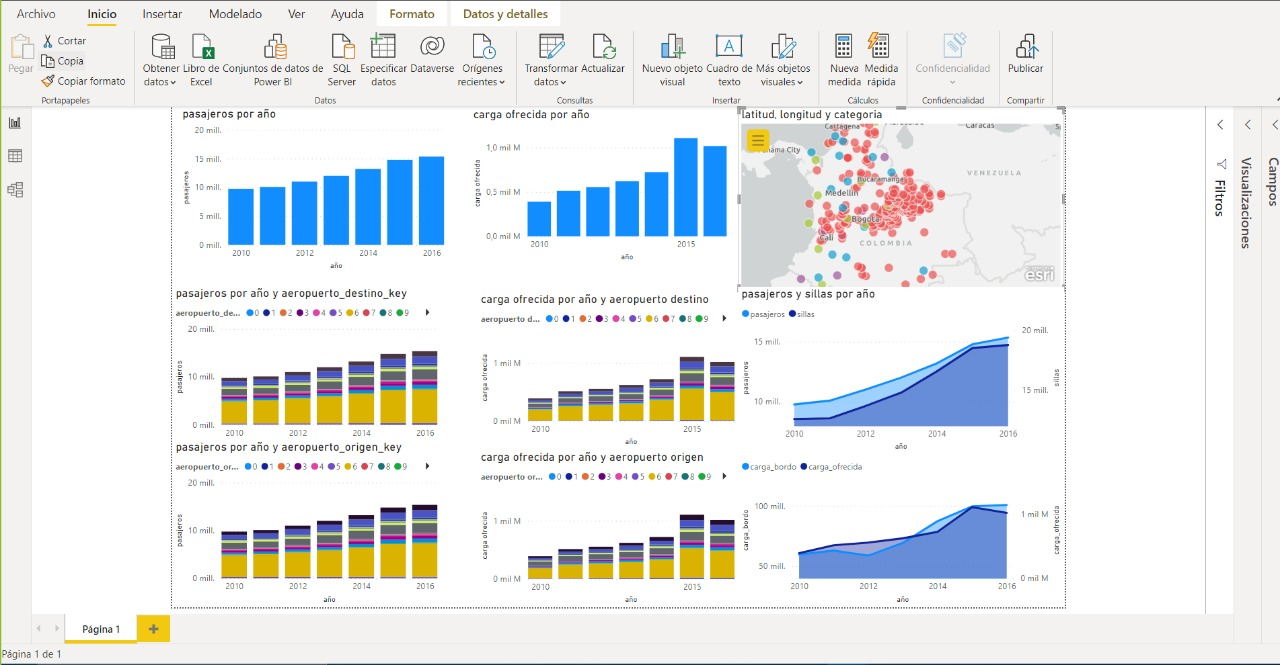

The page's visual inventory and layout, read from the dashboard file:
{"tool":"powerbi","page":{"name":"Vuelos","canvas":[1280,720],"ordinal":0},"visuals":[{"type":"columnChart","title":"Pasajeros anuales","fields":{"Category":["fecha.year"],"Y":["Sum(fact_vuelo.pasajeros)"]},"box":[9.6,0,336.5,239],"z":0},{"type":"columnChart","title":"Carga anual transportada","fields":{"Category":["fecha.year"],"Y":["Sum(fact_vuelo.carga_bordo)"]},"box":[377.7,0,336.5,239],"z":1000},{"type":"columnChart","title":"Pasajeros anuales por destino","fields":{"Category":["fecha.year"],"Y":["Sum(fact_vuelo.pasajeros)"],"Series":["fact_vuelo.aeropuerto_destino_key"]},"box":[1.4,239,336.5,232.1],"z":2000},{"type":"columnChart","title":"Carga anual transportada por destino","fields":{"Category":["fecha.year"],"Y":["Sum(fact_vuelo.carga_bordo)"],"Series":["fact_vuelo.aeropuerto_destino_key"]},"box":[377.7,239,336.5,232.1],"z":3000},{"type":"columnChart","title":"Pasajeros anuales por origen","fields":{"Category":["fecha.year"],"Y":["Sum(fact_vuelo.pasajeros)"],"Series":["fact_vuelo.aeropuerto_origen_key"]},"box":[1.4,471.1,336.5,248.6],"z":4000},{"type":"columnChart","title":"Carga anual transportada por origen","fields":{"Category":["fecha.year"],"Series":["fact_vuelo.aeropuerto_origen_key"],"Y":["Sum(fact_vuelo.carga_bordo)"]},"box":[377.7,471.1,336.5,248.6],"z":5000},{"type":"esriVisual","title":"Ubicaciones y categorías","fields":{"Latitude":["aeropuerto.latitud"],"Longitude":["aeropuerto.longitud"],"Color":["aeropuerto.categoria"]},"box":[723.8,0,556.2,239],"z":6000},{"type":"areaChart","title":"Pasajeros y sillas anuales","fields":{"Category":["fecha.year"],"Y":["Sum(fact_vuelo.pasajeros)"],"Y2":["Sum(fact_vuelo.sillas)"]},"box":[724,239,556,232],"z":7000},{"type":"areaChart","title":"Carga a bordo y carga ofrecida anual","fields":{"Category":["fecha.year"],"Y":["Sum(fact_vuelo.carga_bordo)"],"Y2":["Sum(fact_vuelo.carga_ofrecida)"]},"box":[714.2,487.6,556.2,232.1],"z":8000}]}

Visuals, with their boxes on the page's 1280x720 design canvas (x1, y1, x2, y2). These are canvas units, not pixel positions in the 1280x665 screenshot, which may show the page scaled, cropped or inside an application window:
"Pasajeros anuales" columnChart: pyautogui.locateOnScreen(10, 0, 346, 239)
"Carga anual transportada" columnChart: pyautogui.locateOnScreen(378, 0, 714, 239)
"Pasajeros anuales por destino" columnChart: pyautogui.locateOnScreen(1, 239, 338, 471)
"Carga anual transportada por destino" columnChart: pyautogui.locateOnScreen(378, 239, 714, 471)
"Pasajeros anuales por origen" columnChart: pyautogui.locateOnScreen(1, 471, 338, 720)
"Carga anual transportada por origen" columnChart: pyautogui.locateOnScreen(378, 471, 714, 720)
"Ubicaciones y categorías" esriVisual: pyautogui.locateOnScreen(724, 0, 1280, 239)
"Pasajeros y sillas anuales" areaChart: pyautogui.locateOnScreen(724, 239, 1280, 471)
"Carga a bordo y carga ofrecida anual" areaChart: pyautogui.locateOnScreen(714, 488, 1270, 720)
